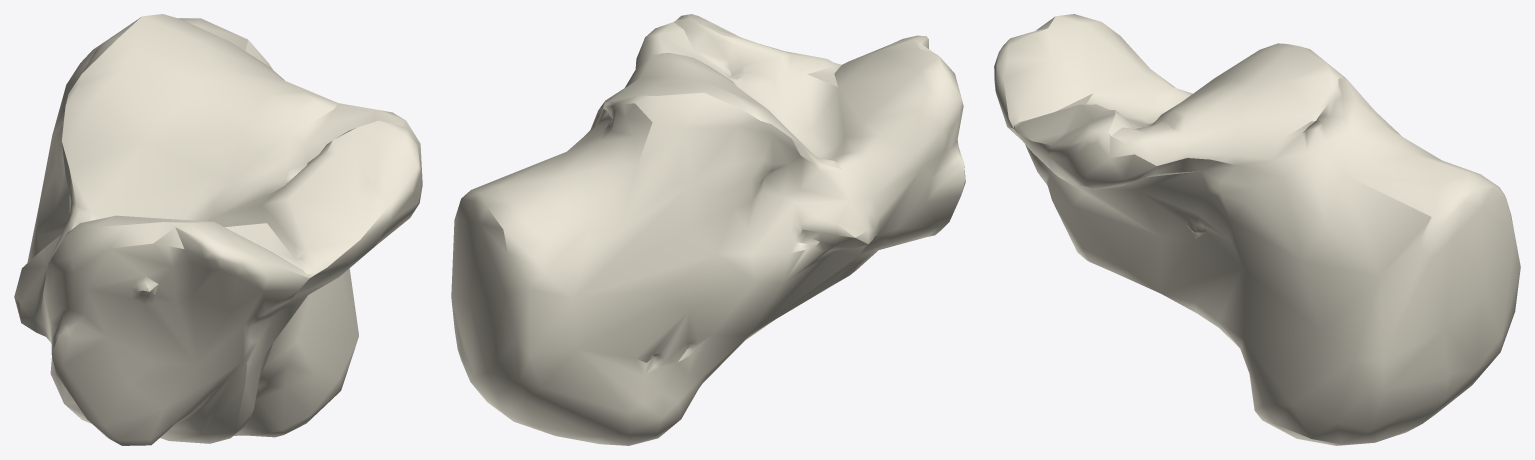
File: fma24497_fj6454.glb
3 renders of one model, left to right at view 1: azimuth 30°, elevation 25°; view 2: azimuth 150°, elevation 25°; view 3: azimuth 270°, elevation 25°, orthographic. The views are drawn at different scales.
Visible parts, largest first — view 1: FMA24497_FJ6454; view 2: FMA24497_FJ6454; view 3: FMA24497_FJ6454.
Boxes of the visible parts, x1,y1,x2,y2 form: FMA24497_FJ6454: [14, 14, 422, 445]; FMA24497_FJ6454: [451, 14, 965, 445]; FMA24497_FJ6454: [994, 14, 1520, 445].
Bounding box in the file's own units: 0.056 × 0.0493 × 0.0702.
